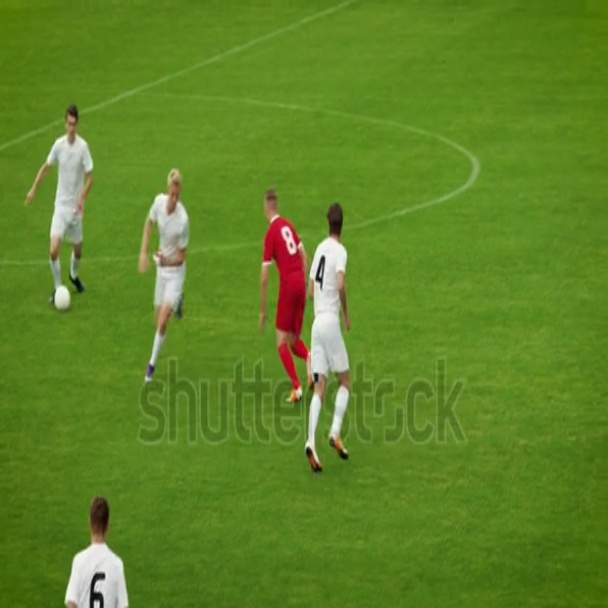ball: (54, 284, 72, 314)
